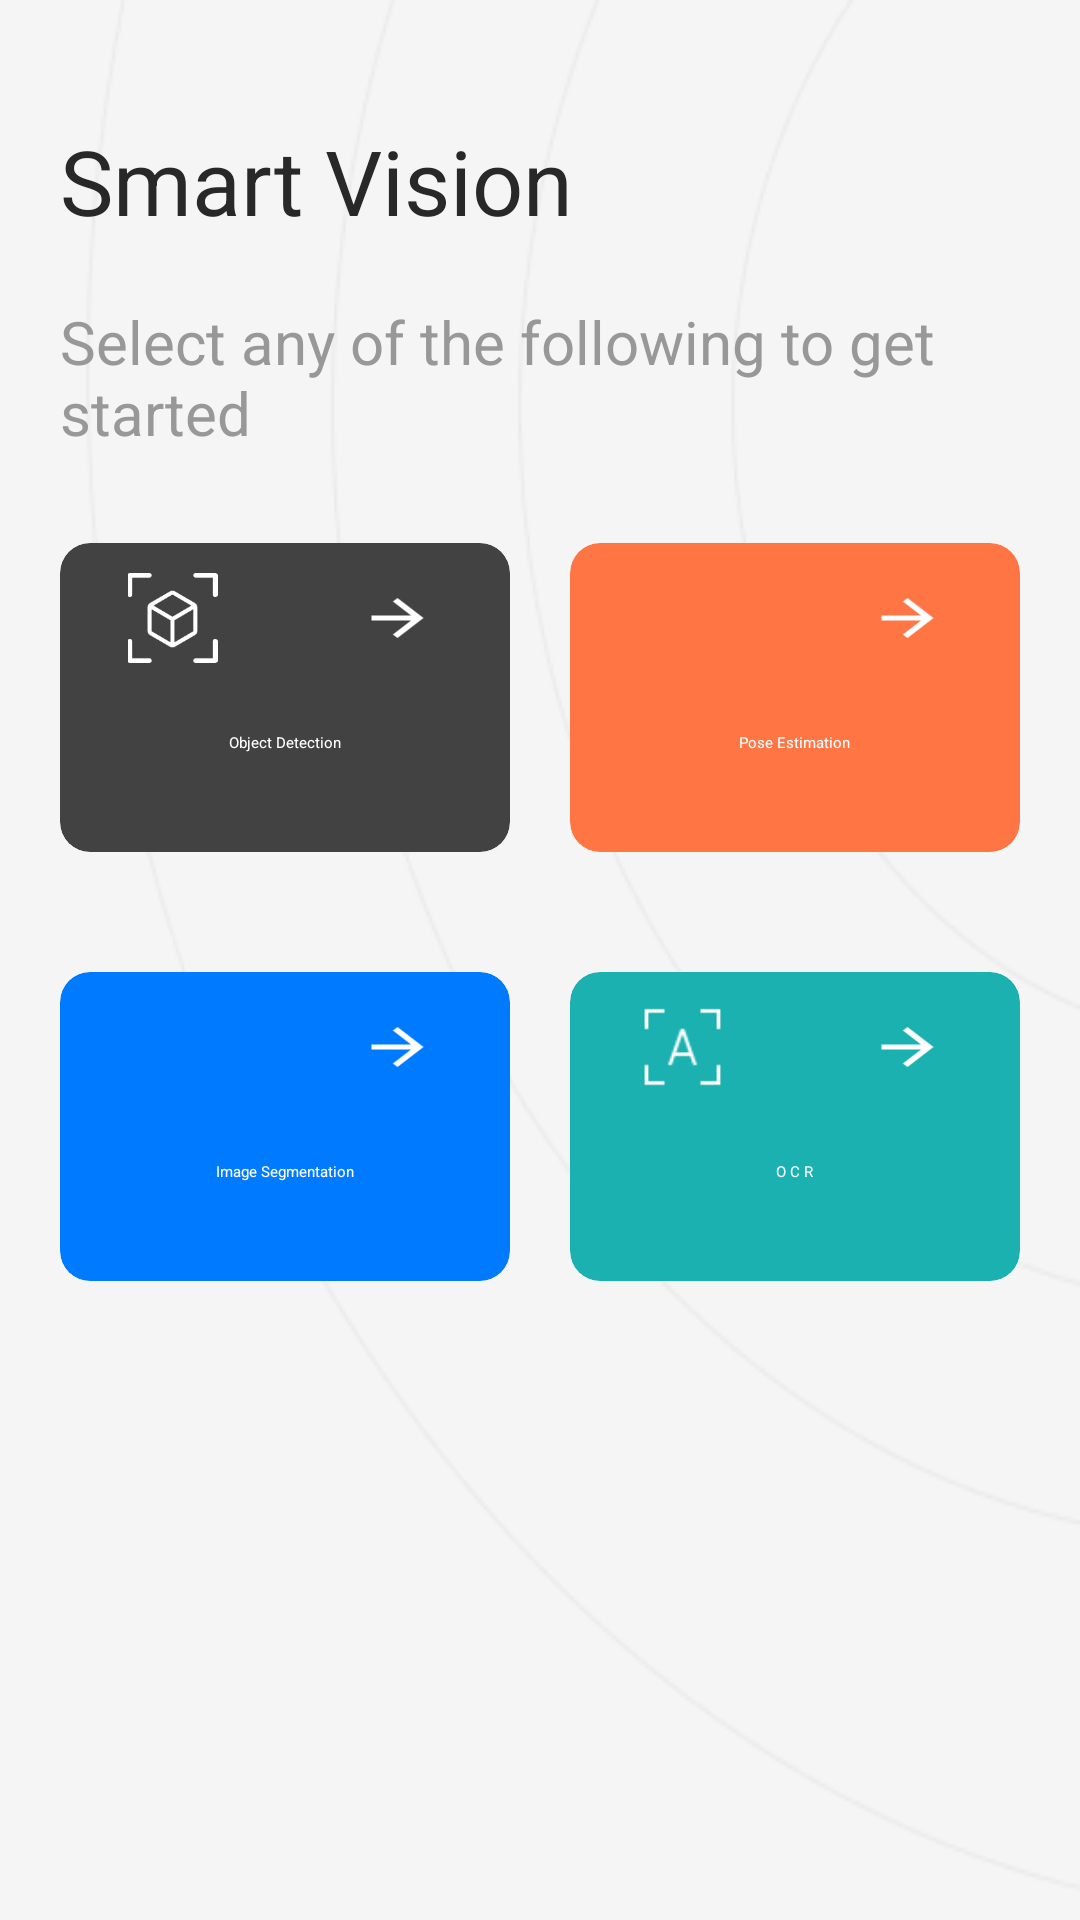

Where to tap for icons on this 1080px x 1920px app screen, as (x=x, y=y):
forwardarrow: (x=397, y=618), (x=907, y=618), (x=397, y=1047), (x=907, y=1047)
ocr: (x=682, y=1047)
